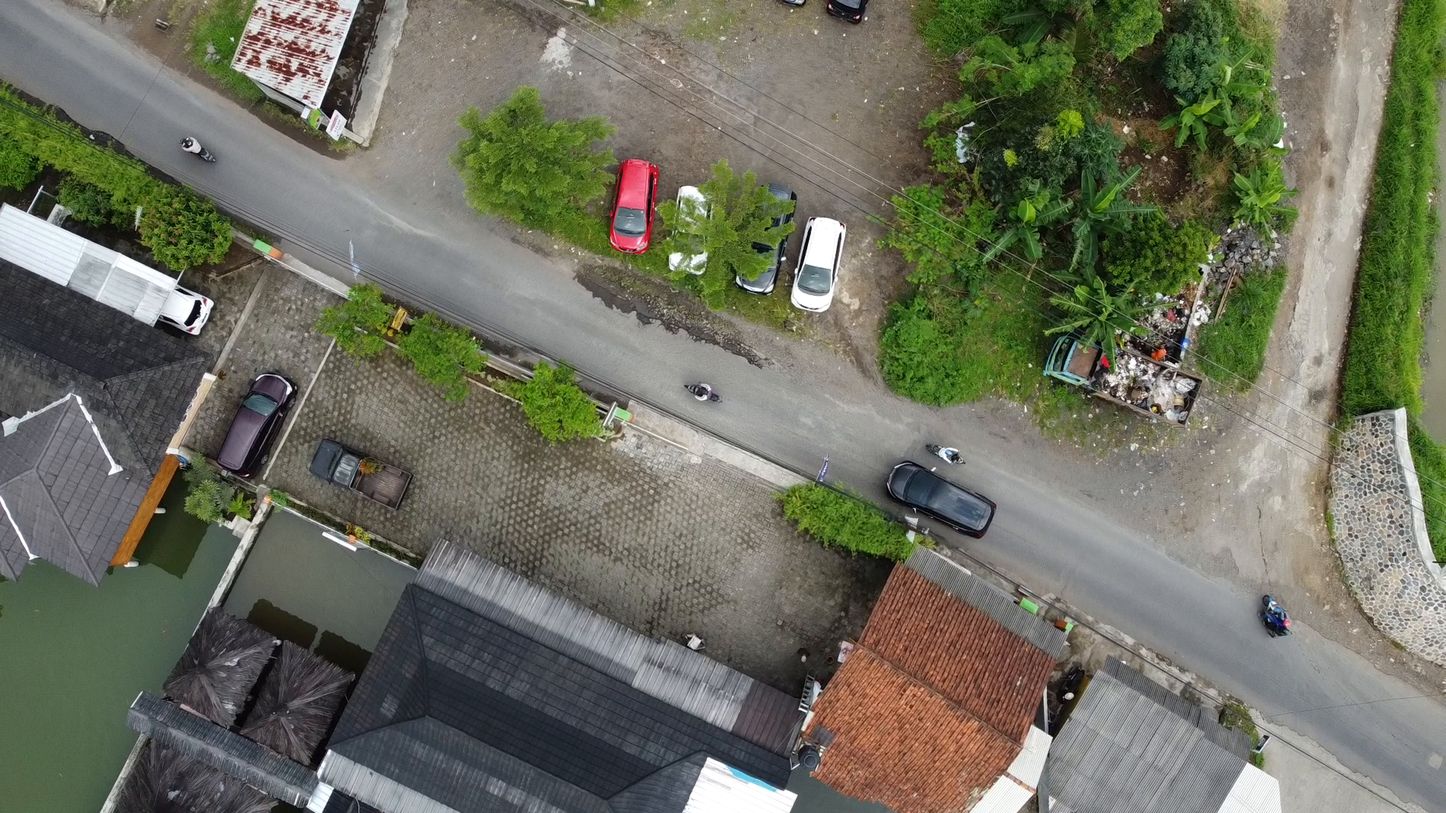mobil: (873, 452, 998, 547), (301, 428, 415, 522), (211, 368, 297, 483), (733, 171, 800, 300), (666, 176, 727, 291), (795, 198, 849, 316), (616, 149, 666, 263), (150, 282, 219, 343)
